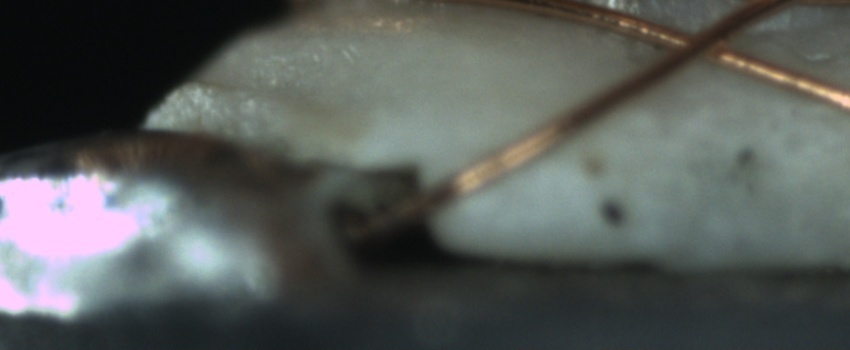CL: (649, 12, 756, 74)
